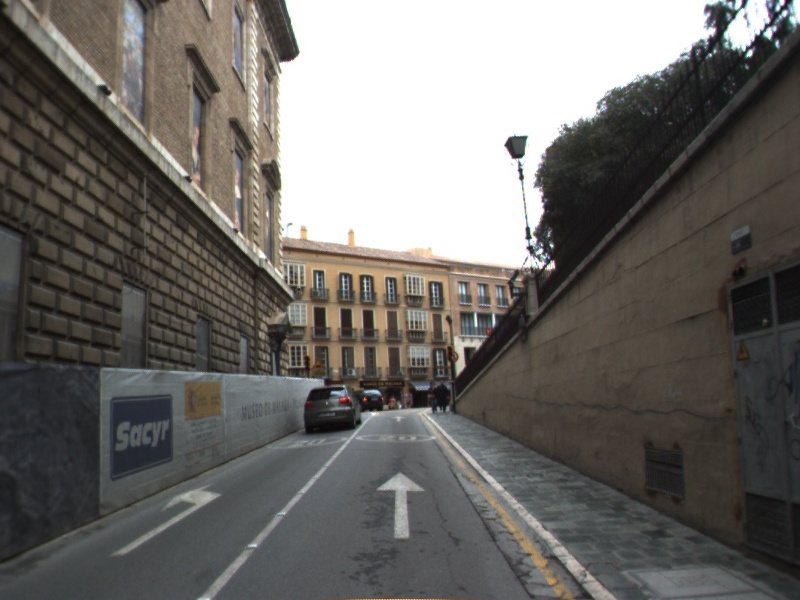LEFT: (109, 482, 224, 558)
STRAIGHT: (374, 469, 428, 541), (391, 414, 407, 423)
